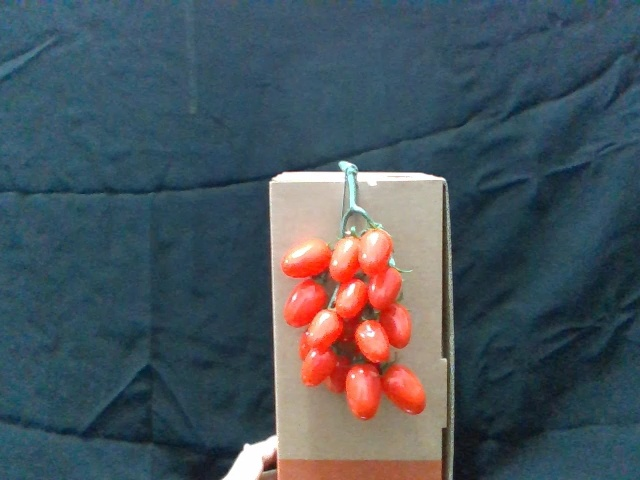tomato: (380, 363, 429, 418), (283, 279, 328, 331), (347, 363, 384, 423), (353, 316, 394, 368), (280, 240, 332, 279), (308, 308, 347, 355), (380, 303, 415, 350), (337, 276, 371, 323), (361, 228, 394, 276), (369, 267, 403, 312), (330, 235, 363, 281), (301, 348, 337, 390)
